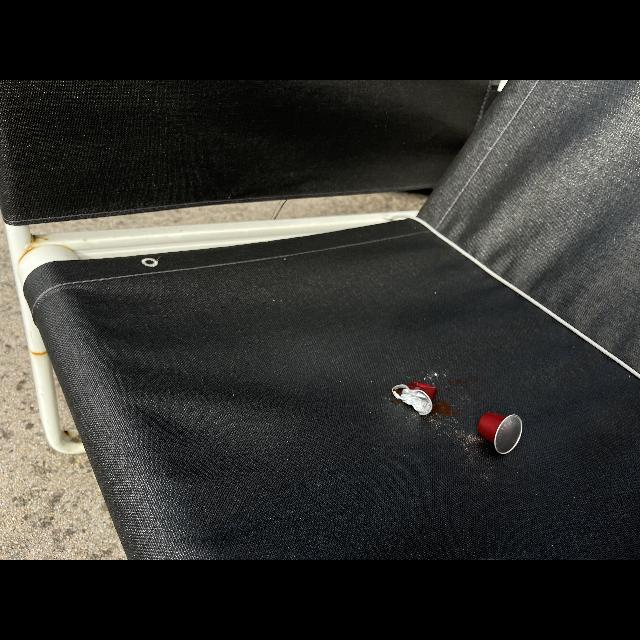damaged_capsule: (390, 377, 444, 417)
intact_capsule: (474, 409, 526, 457)
